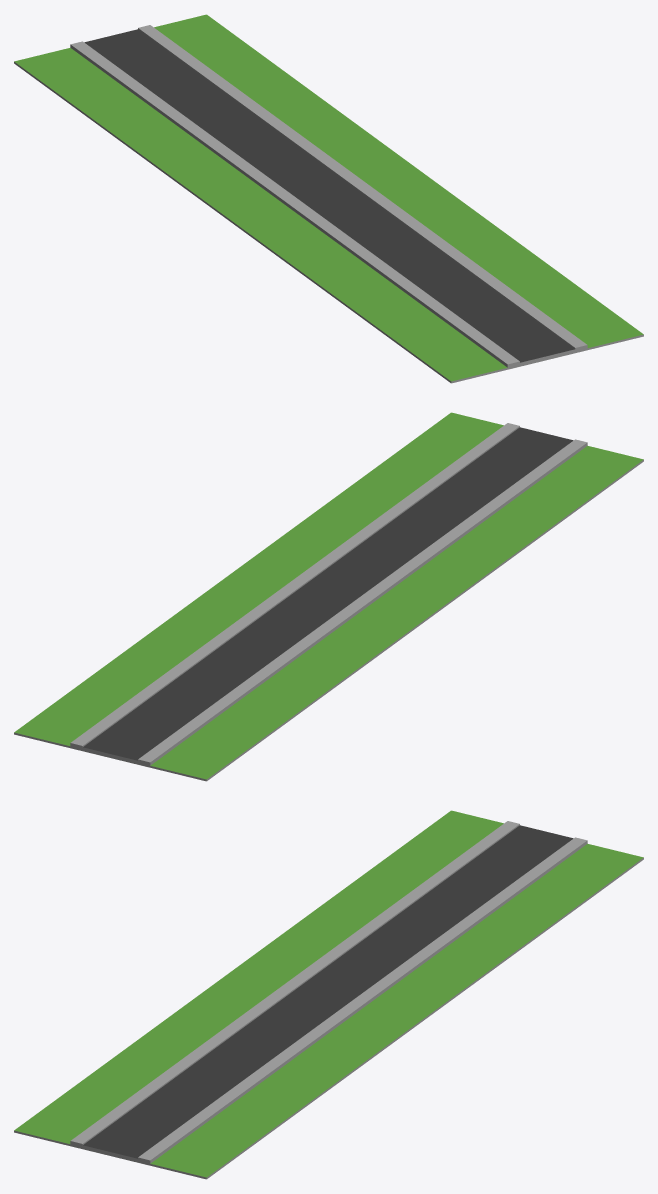
File: Road_Fbx.fbx
3 views of the same model, one above another, from view 1: azimuth 30°, elevation 25°; view 2: azimuth 150°, elevation 25°; view 3: azimuth 330°, elevation 25° (orthographic).
Visible parts, largest first — view 1: pCube9; view 2: pCube9; view 3: pCube9.
Boxes of the visible parts, x1=… form: pCube9: x1=14, y1=14, x2=643, y2=383; pCube9: x1=14, y1=412, x2=643, y2=781; pCube9: x1=14, y1=810, x2=643, y2=1179.
Size of the model in its own units: 25.45 by 0.6703 by 100.
